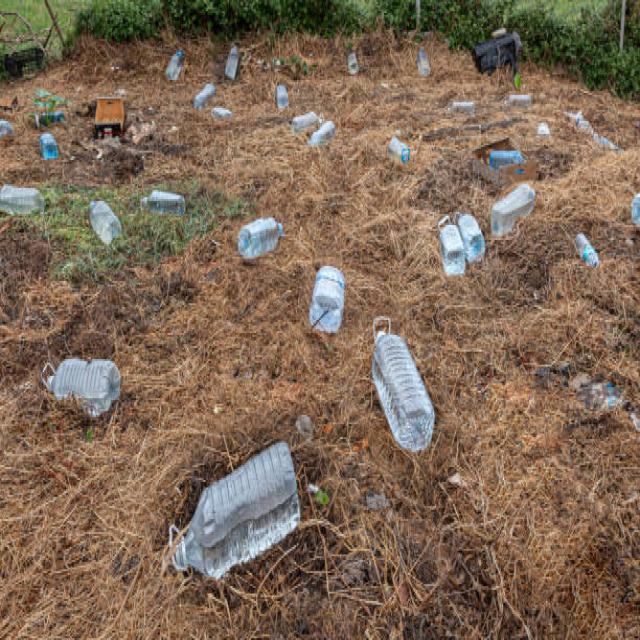plastic: (366, 307, 434, 467), (276, 82, 339, 138), (437, 206, 485, 272), (314, 251, 340, 324), (240, 216, 284, 255)
